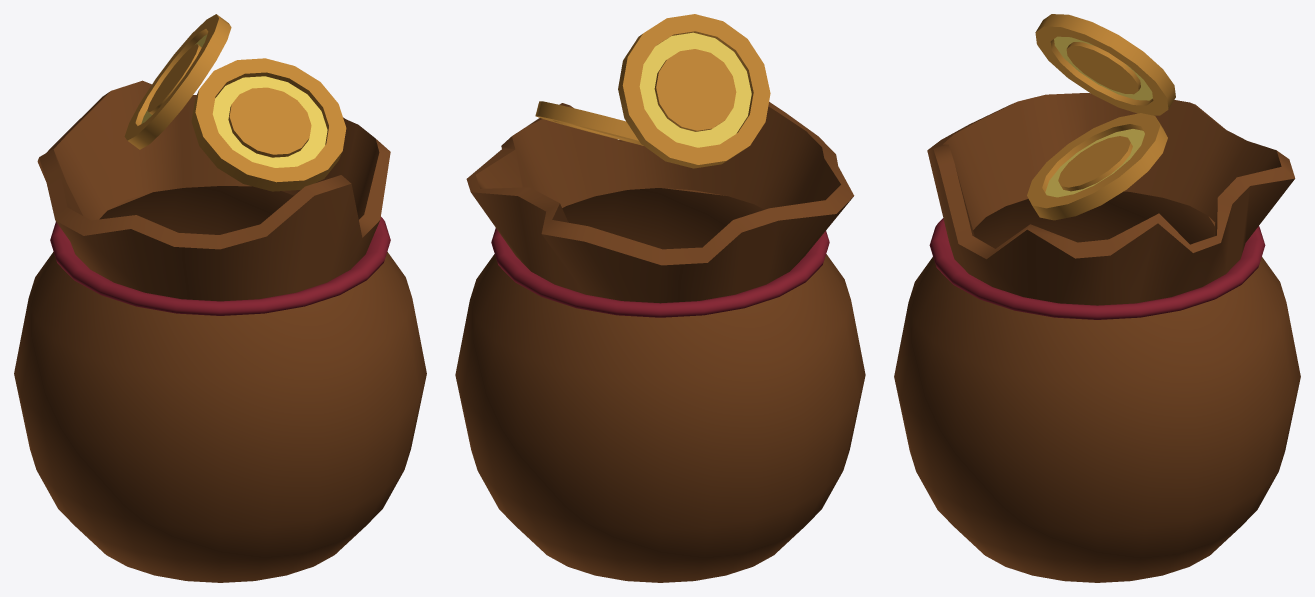
The model's file is CoinSack.fbx.
3 views of the same model, side by side, from view 1: azimuth 30°, elevation 25°; view 2: azimuth 150°, elevation 25°; view 3: azimuth 270°, elevation 25° (orthographic).
Parts seen in each view (by area): view 1: sack, coin 1, coin 1.001; view 2: sack, coin 1.001, coin 1; view 3: sack, coin 1, coin 1.001.
Part boxes in pixels (x1,y1,x2,y2): sack: [14, 80, 426, 582]; coin 1: [191, 58, 346, 191]; coin 1.001: [124, 14, 231, 149]; sack: [455, 102, 865, 582]; coin 1.001: [618, 14, 770, 168]; coin 1: [535, 101, 643, 145]; sack: [894, 93, 1300, 582]; coin 1: [1027, 113, 1167, 220]; coin 1.001: [1035, 14, 1175, 115].
Bounding box in the file's own units: 211 × 298 × 211.
